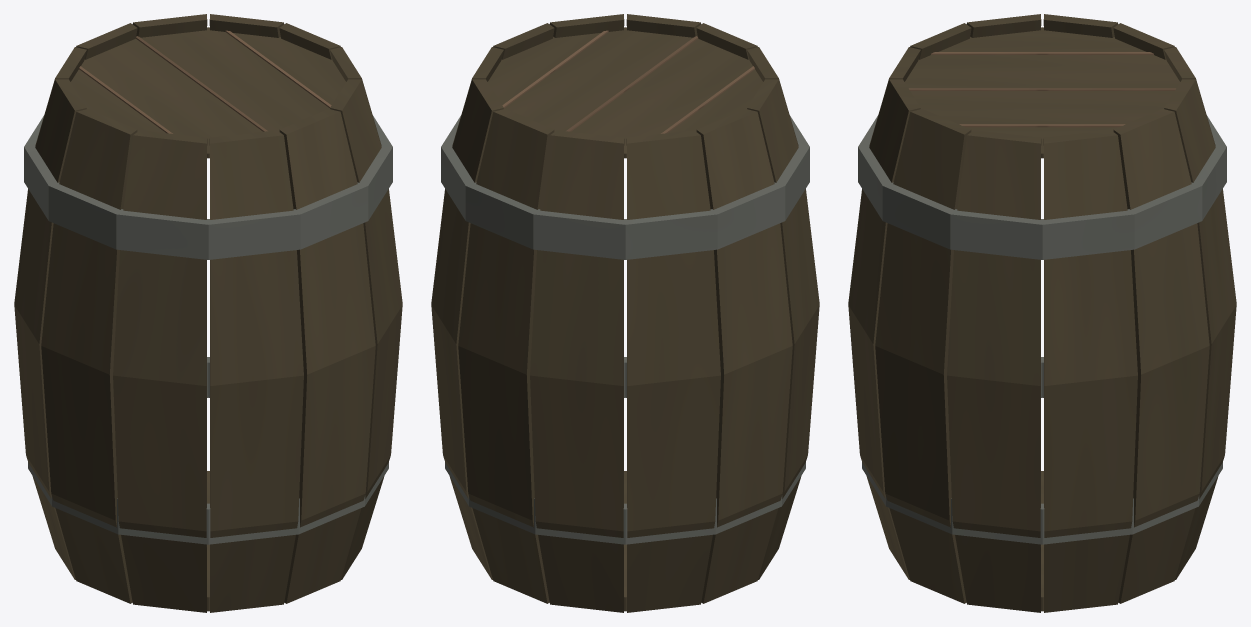
Rendered from WarrensC_CCS66_BrineBarrel_Mars_SM.fbx.
3 renders of one model, left to right at view 1: azimuth 30°, elevation 25°; view 2: azimuth 150°, elevation 25°; view 3: azimuth 270°, elevation 25°, orthographic.
Parts seen in each view (by area): view 1: WarrensC_CCS66_BrineBarrel_Mars_SM.001; view 2: WarrensC_CCS66_BrineBarrel_Mars_SM.001; view 3: WarrensC_CCS66_BrineBarrel_Mars_SM.001.
Part boxes in pixels (<box>): WarrensC_CCS66_BrineBarrel_Mars_SM.001: <box>14,14,402,612</box>; WarrensC_CCS66_BrineBarrel_Mars_SM.001: <box>431,14,819,612</box>; WarrensC_CCS66_BrineBarrel_Mars_SM.001: <box>848,14,1236,612</box>.
Bounding box in the file's own units: 90 × 90 × 120.
